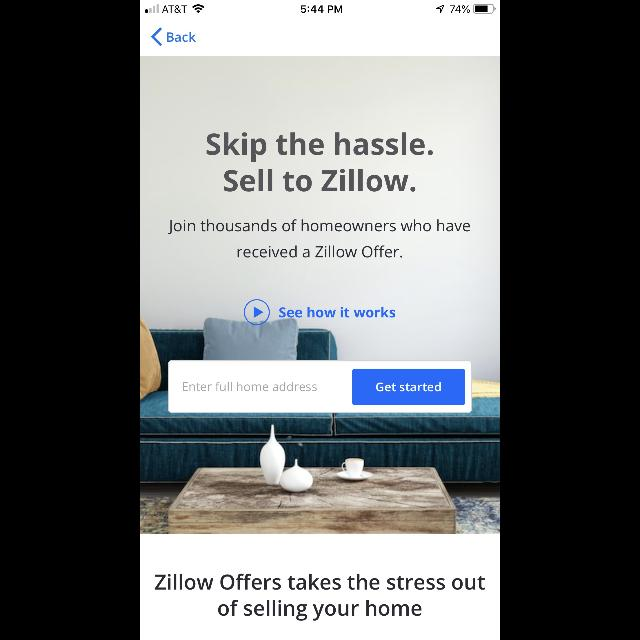icon: (244, 299, 270, 325), (152, 28, 162, 46)
image: (140, 56, 500, 534)
input: (168, 361, 472, 414)
text: (156, 574, 484, 620), (207, 132, 433, 192), (168, 220, 470, 258), (279, 306, 395, 318), (183, 382, 317, 391), (168, 32, 196, 42)
textbutton: (352, 368, 466, 406)
uppertaskbar: (140, 0, 500, 14)
